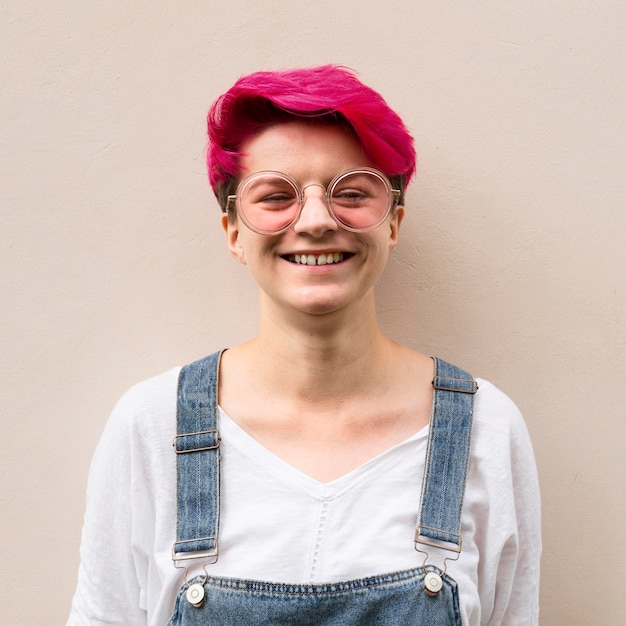teen: (181, 55, 460, 325)
